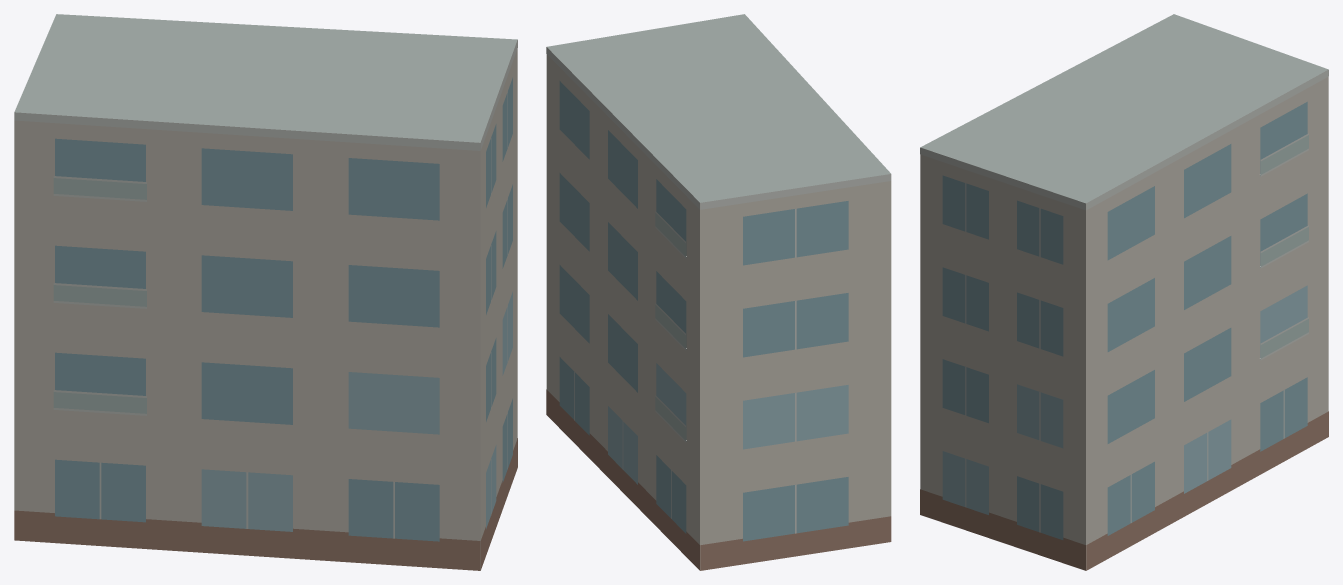
Rendered from survey-upis-33038155.glb.
The picture shows the model from 3 angles, left to right: view 1: azimuth 30°, elevation 25°; view 2: azimuth 150°, elevation 25°; view 3: azimuth 270°, elevation 25°; orthographic projection. The views are drawn at different scales.
Visible parts, largest first — view 1: survey-upis-33038155.tmp; view 2: survey-upis-33038155.tmp; view 3: survey-upis-33038155.tmp.
Part boxes in pixels (x1=…): survey-upis-33038155.tmp: x1=14, y1=14, x2=517, y2=570; survey-upis-33038155.tmp: x1=546, y1=14, x2=891, y2=570; survey-upis-33038155.tmp: x1=920, y1=14, x2=1328, y2=570.
Bounding box in the file's own units: 14.16 × 12.8 × 12.91.
